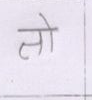o_matra: (43, 15, 56, 52)
